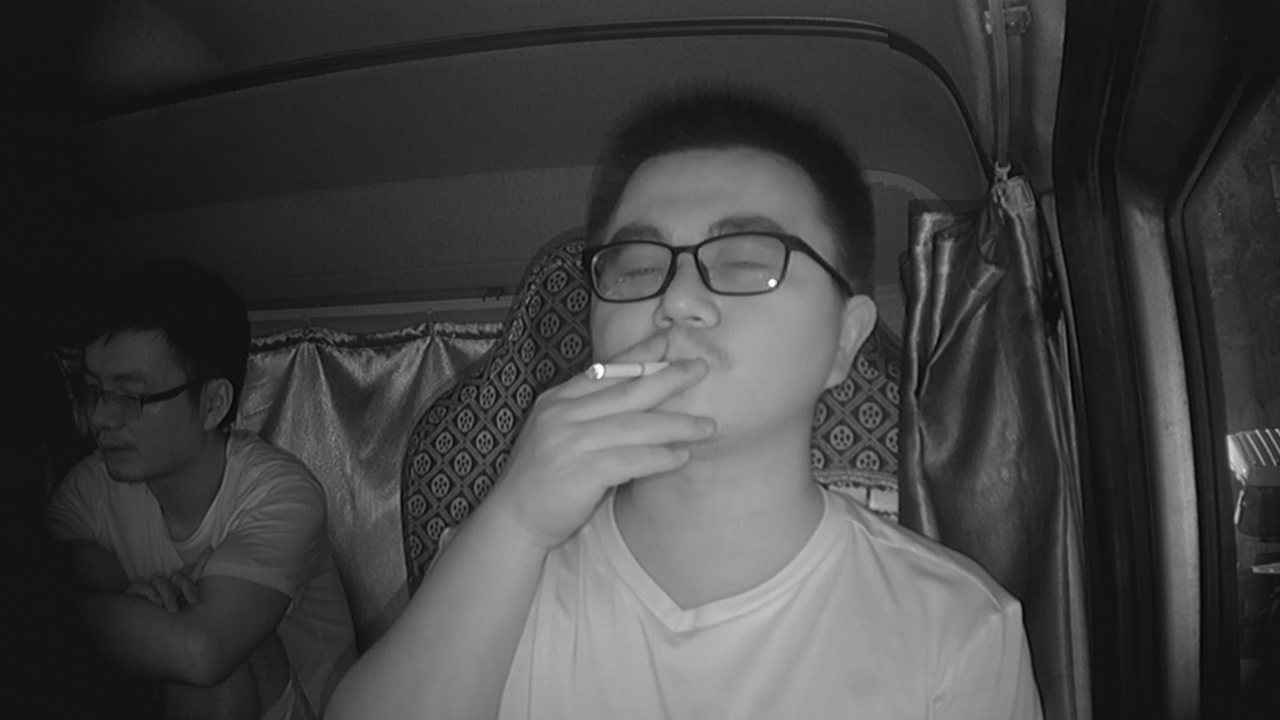hand: (546, 336, 695, 499)
